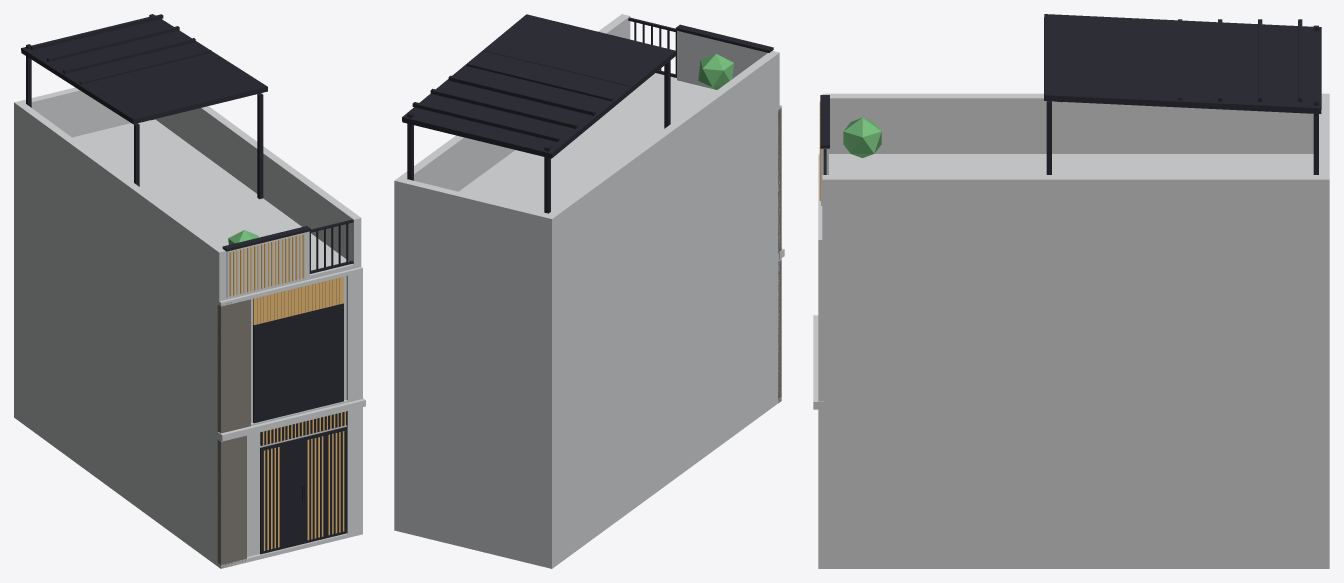
Rendered from tube_house_6.glb.
The picture shows the model from 3 angles, left to right: view 1: azimuth 30°, elevation 25°; view 2: azimuth 150°, elevation 25°; view 3: azimuth 270°, elevation 25°; orthographic projection. The views are drawn at different scales.
Parts seen in each view (by area): view 1: Batch_Mat_Wall_White_0, Batch_Mat_Black_Metal_2, Batch_Mat_Wood_Slats_4, Batch_Mat_Brick_Dark_1; view 2: Batch_Mat_Wall_White_0, Batch_Mat_Black_Metal_2, Batch_Mat_Brick_Dark_1, Batch_Mat_Foliage_3; view 3: Batch_Mat_Wall_White_0, Batch_Mat_Black_Metal_2, Batch_Mat_Foliage_3.
Part boxes in pixels (bbox=[...]): Batch_Mat_Wall_White_0: bbox=[14, 87, 365, 568]; Batch_Mat_Black_Metal_2: bbox=[21, 14, 353, 554]; Batch_Mat_Wood_Slats_4: bbox=[229, 234, 345, 550]; Batch_Mat_Brick_Dark_1: bbox=[217, 299, 250, 567]; Batch_Mat_Wall_White_0: bbox=[394, 14, 784, 568]; Batch_Mat_Black_Metal_2: bbox=[402, 14, 773, 213]; Batch_Mat_Brick_Dark_1: bbox=[778, 108, 781, 403]; Batch_Mat_Foliage_3: bbox=[698, 53, 733, 89]; Batch_Mat_Wall_White_0: bbox=[813, 93, 1329, 568]; Batch_Mat_Black_Metal_2: bbox=[820, 14, 1321, 174]; Batch_Mat_Foliage_3: bbox=[843, 117, 881, 157].
Bounding box in the file's own units: 3.84 × 9.75 × 9.67.
